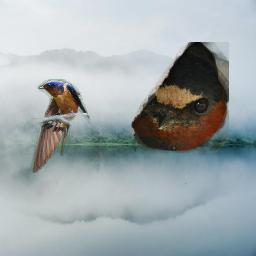Swallow: (131, 42, 229, 153), (31, 79, 90, 173)
